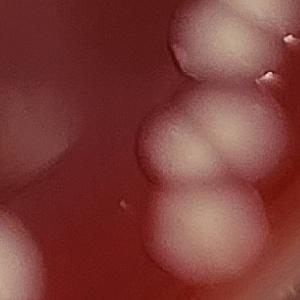colony: (138, 172, 278, 288), (174, 71, 295, 189), (128, 94, 248, 195), (163, 0, 289, 89), (0, 201, 65, 300), (210, 0, 300, 46)
